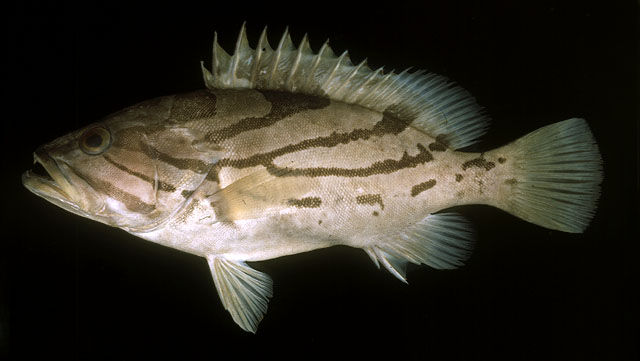fish: (22, 22, 604, 334)
